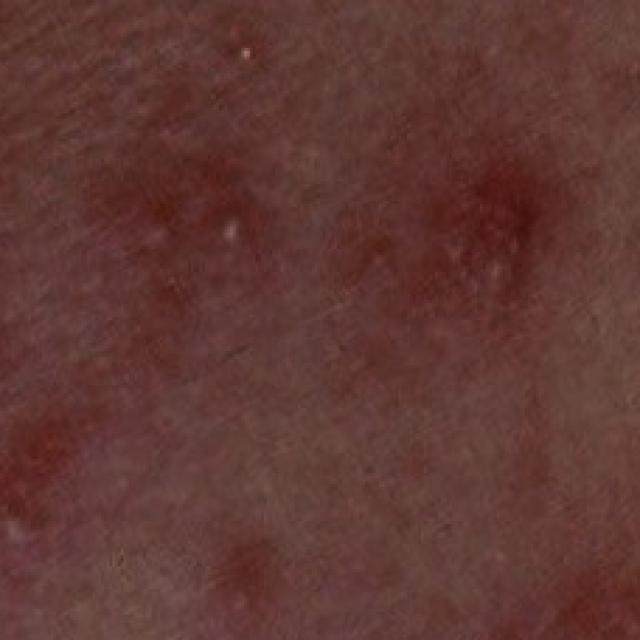acne: (31, 85, 595, 349), (444, 509, 640, 640), (0, 391, 129, 589), (183, 526, 318, 640)
